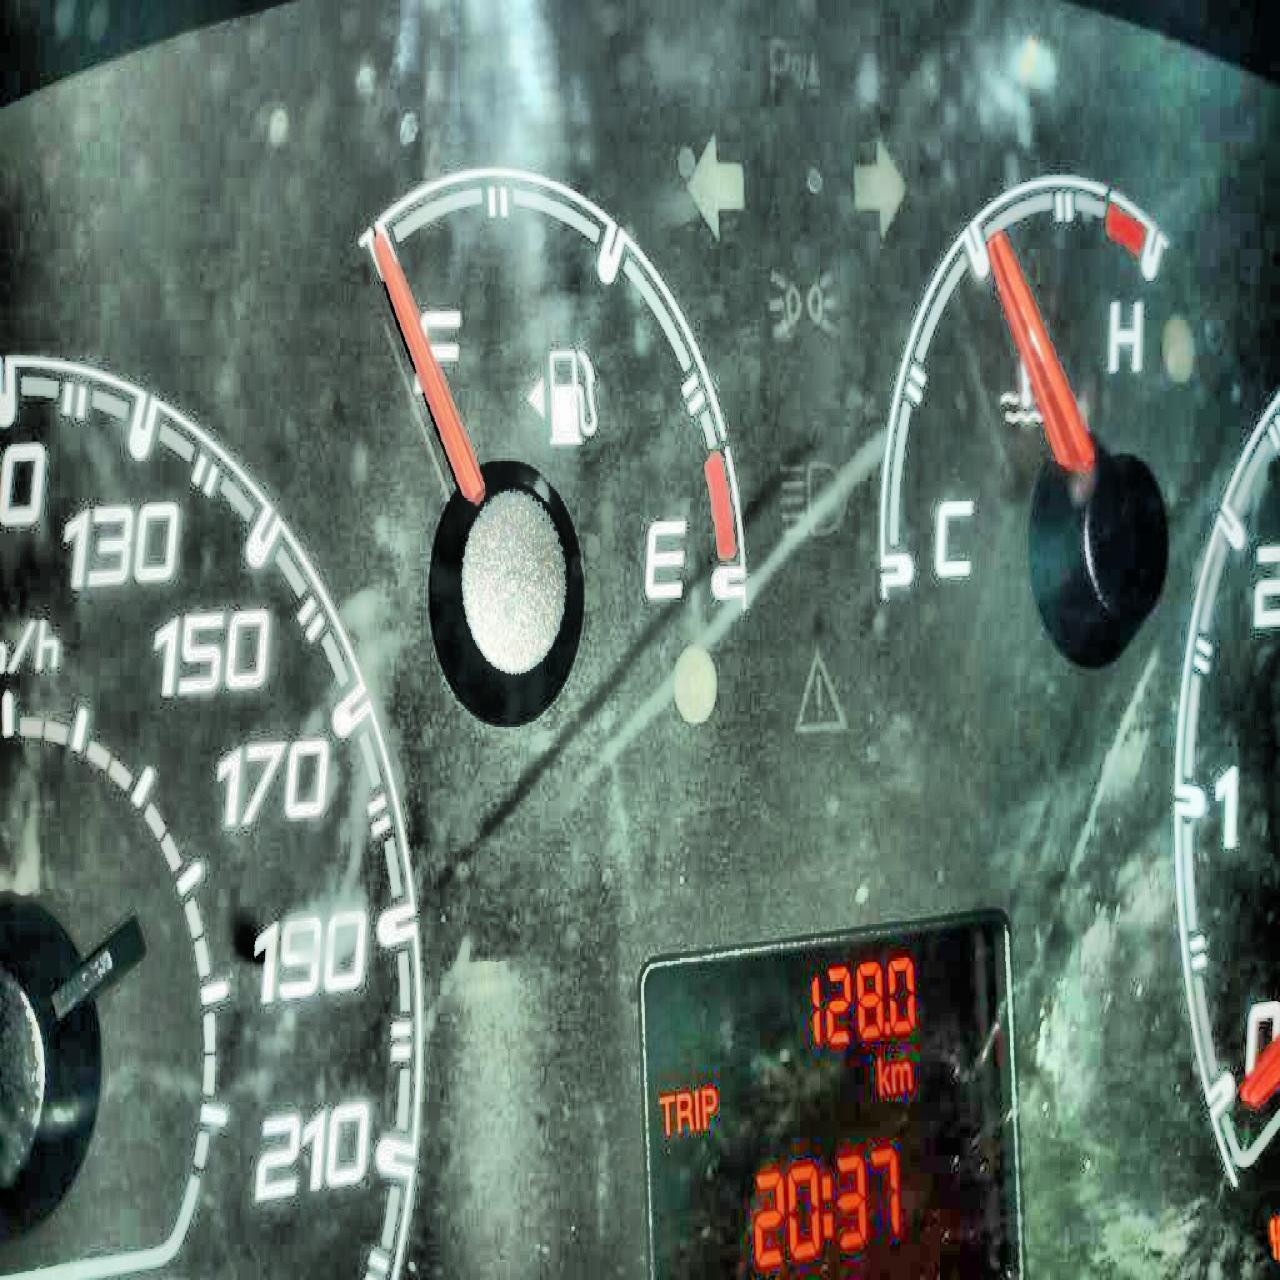-: (883, 1016, 892, 1040)
0: (788, 1160, 818, 1258), (886, 953, 915, 1034)
1: (806, 972, 824, 1047)
2: (750, 1164, 785, 1266), (824, 960, 852, 1042)
3: (835, 1151, 867, 1250)
7: (869, 1144, 903, 1235)
8: (853, 958, 883, 1040)
X: (653, 1089, 675, 1136), (818, 1171, 833, 1235), (699, 1084, 717, 1129), (888, 1057, 911, 1094), (675, 1089, 693, 1133), (873, 1054, 888, 1096), (692, 1087, 700, 1131)
odometer: (635, 898, 1026, 1275)
